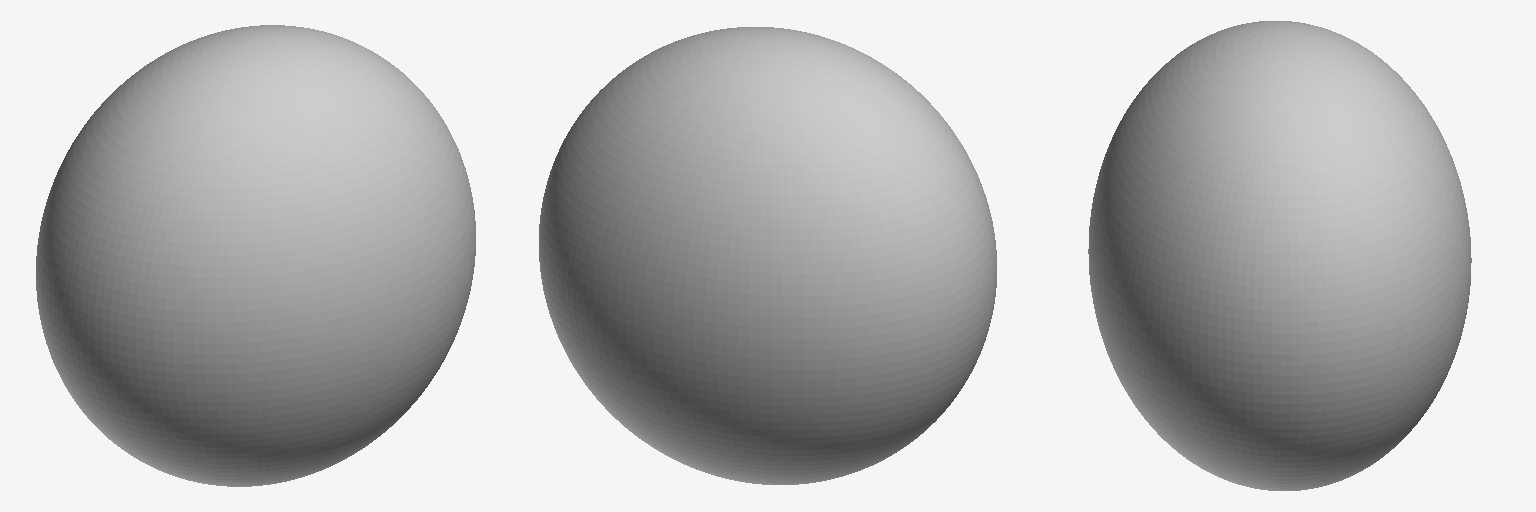
The model's file is rabbit test.OBJ.
3 renders of one model, left to right at view 1: azimuth 30°, elevation 25°; view 2: azimuth 150°, elevation 25°; view 3: azimuth 270°, elevation 25°, orthographic.
Parts seen in each view (by area): view 1: Group10002; view 2: Group10002; view 3: Group10002.
Boxes of the visible parts, <box> form: Group10002: <box>36,25,475,486</box>; Group10002: <box>539,27,996,484</box>; Group10002: <box>1088,21,1471,490</box>.
Size of the model in its own units: 0.6264 by 0.6281 by 0.5109.